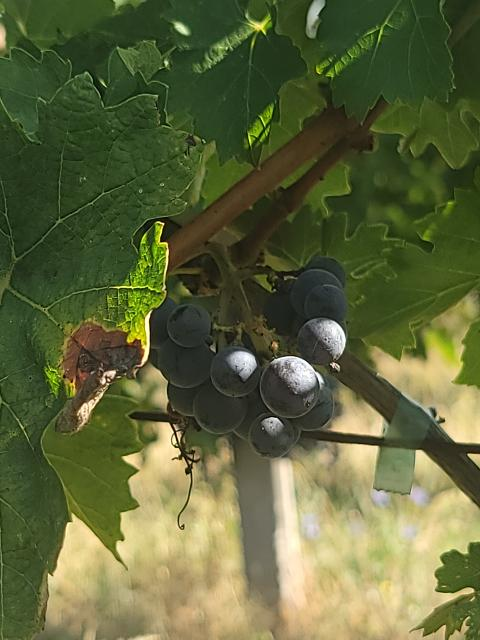grapes: (151, 256, 349, 456)
